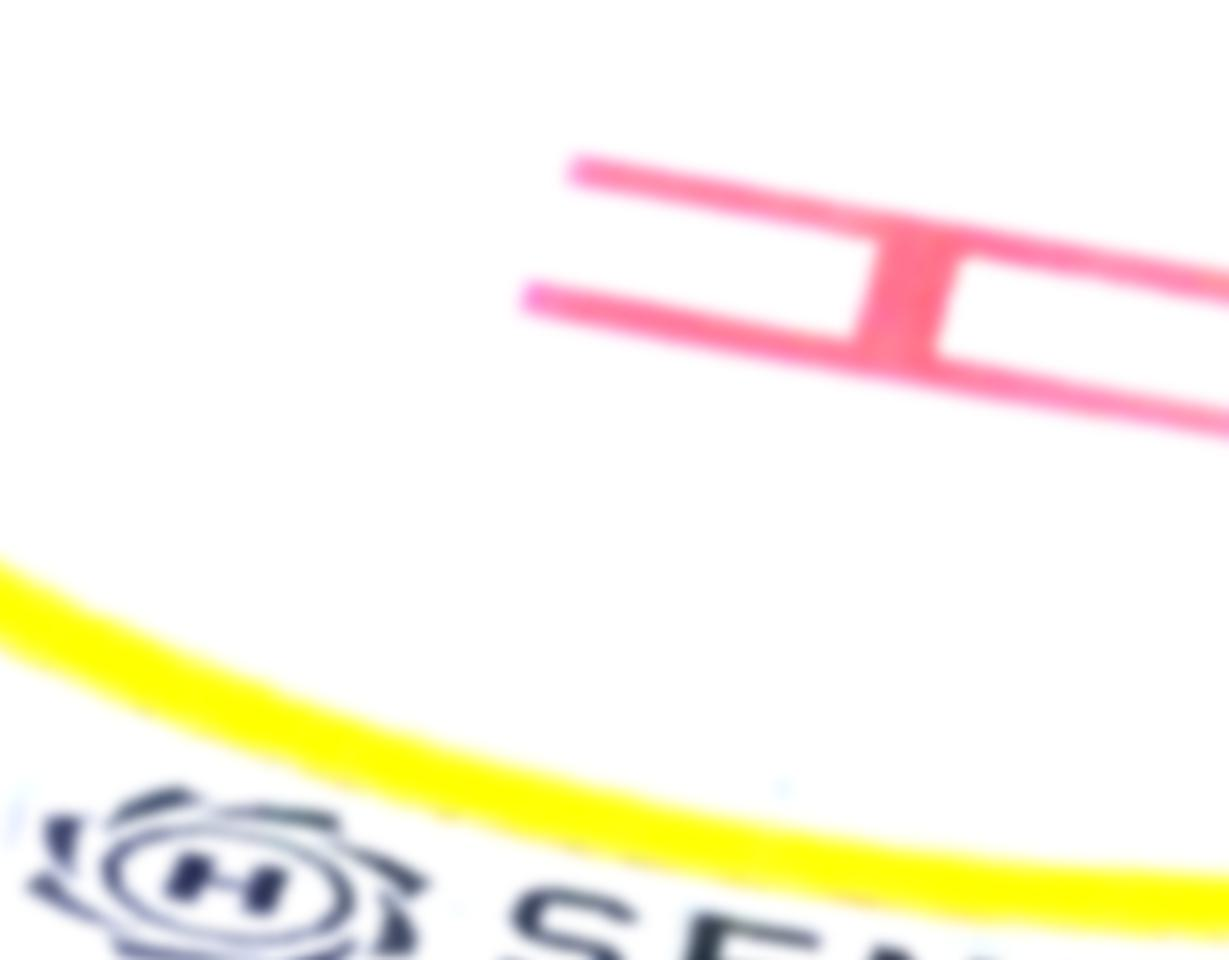Apron: (1, 1, 1228, 954)
